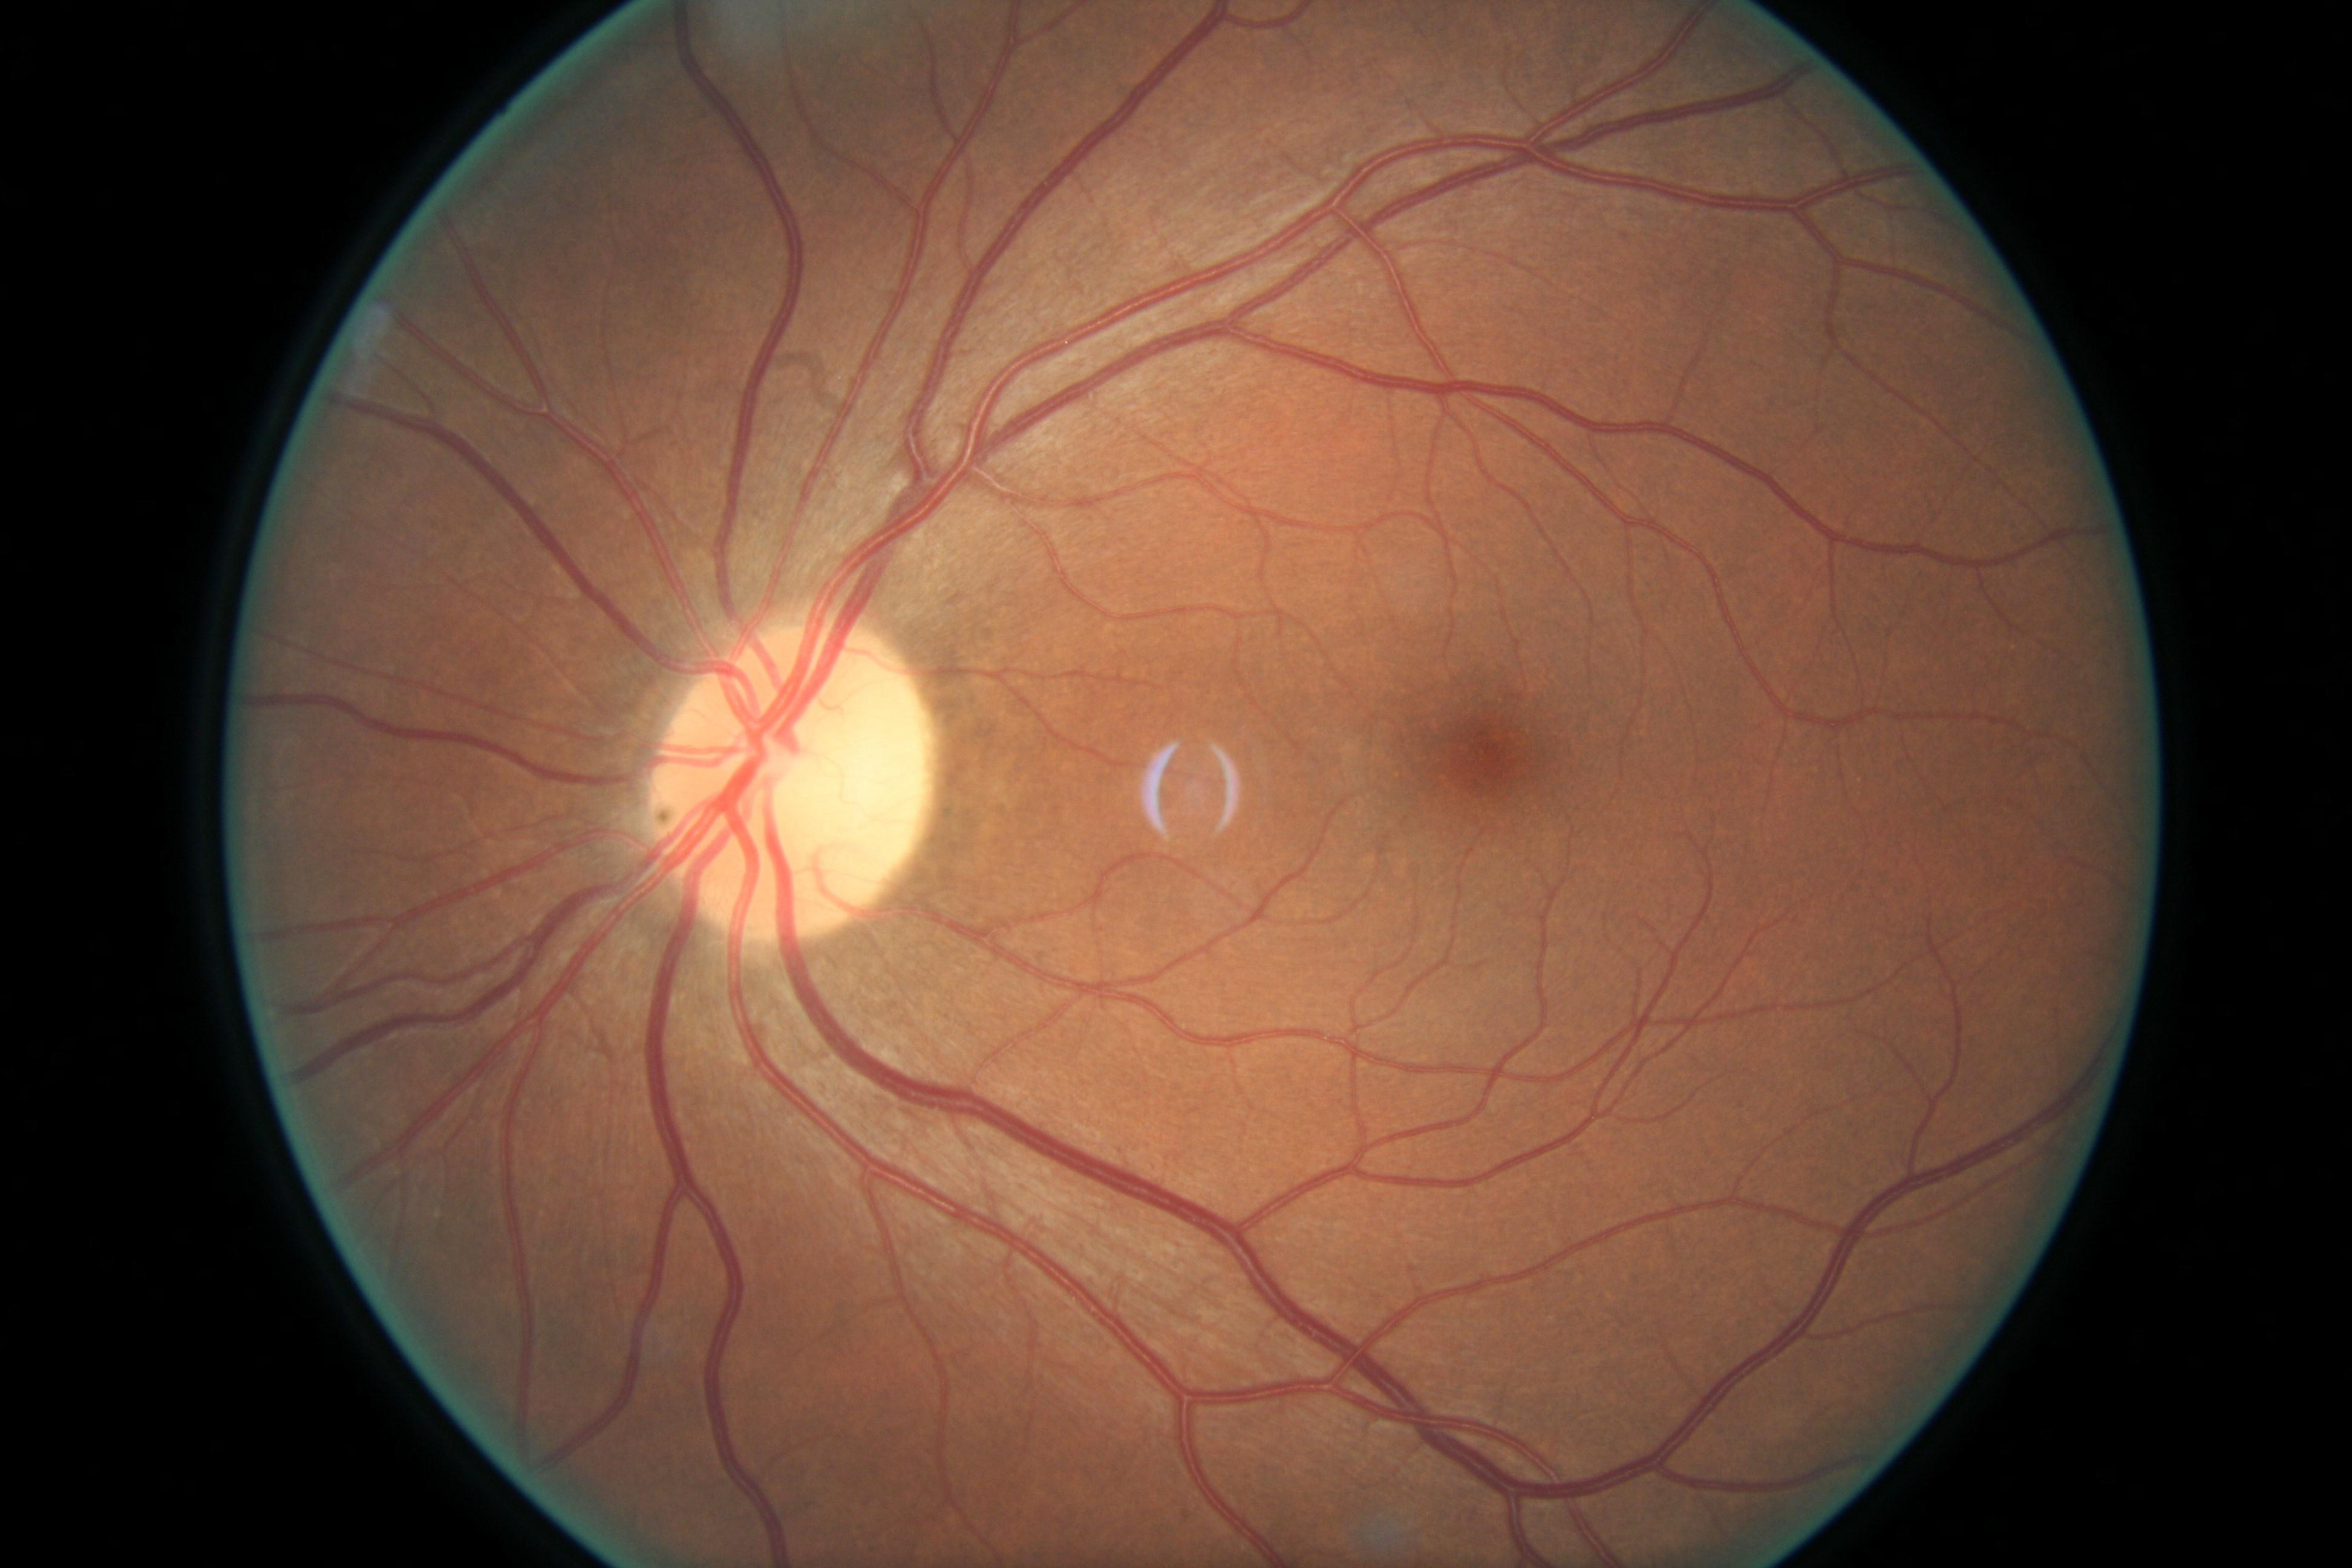Optic-nerve: (655, 632, 948, 944)
macula: (1357, 658, 1592, 871)
